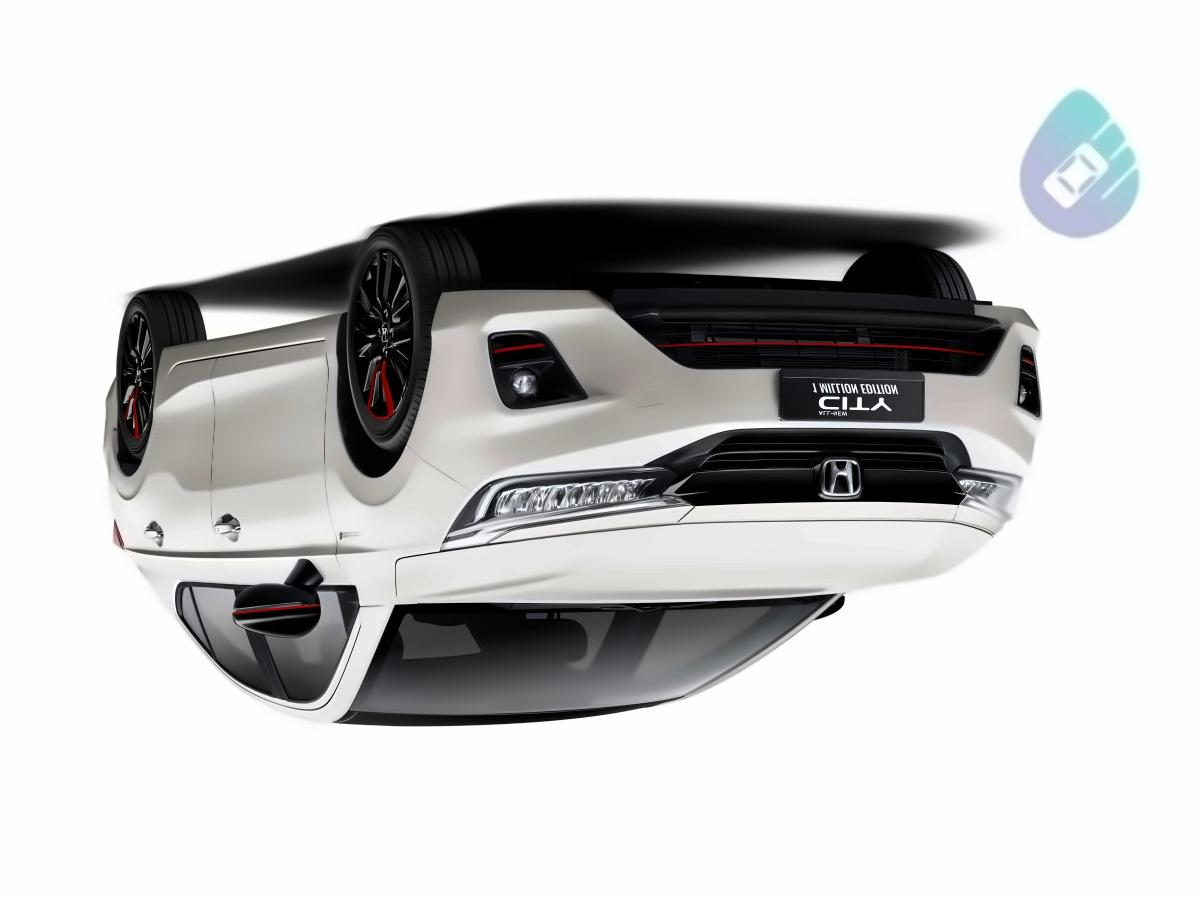Car hood: (387, 514, 1008, 610)
Fender - -F-L-: (314, 310, 473, 606)
Front bumper: (406, 266, 1044, 489)
Headlight - -L-: (430, 460, 696, 551)
Headlight - -R-: (954, 464, 1027, 531)
Passenger-s door - -F-L-: (205, 297, 344, 739)
Passenger-s door - -R-L-: (127, 304, 263, 728)
Side mirror - -L-: (228, 552, 322, 646)
